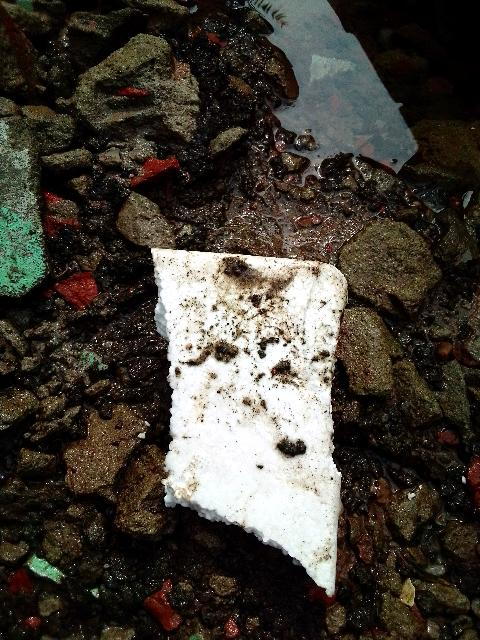cocksheet: (150, 247, 341, 597)
